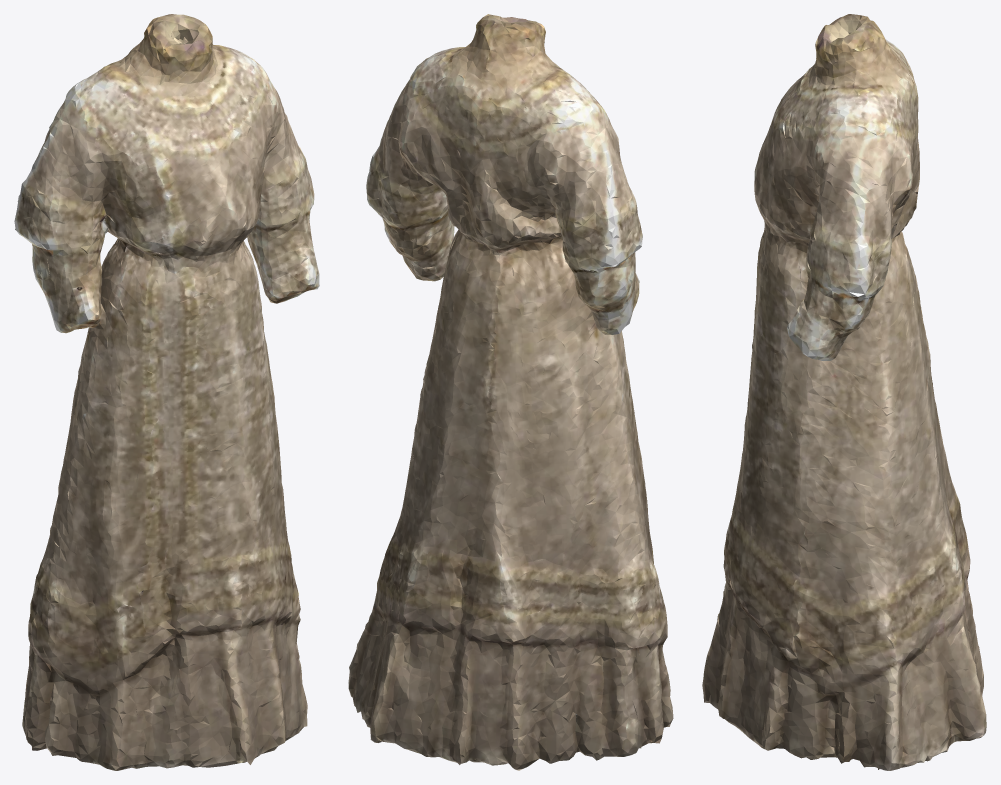
The picture shows the model from 3 angles, left to right: view 1: azimuth 30°, elevation 25°; view 2: azimuth 150°, elevation 25°; view 3: azimuth 270°, elevation 25°; orthographic projection.
Visible parts, largest first — view 1: geometry_0; view 2: geometry_0; view 3: geometry_0.
Boxes of the visible parts, x1=… form: geometry_0: x1=14, y1=14, x2=319, y2=770; geometry_0: x1=348, y1=14, x2=673, y2=770; geometry_0: x1=702, y1=14, x2=986, y2=770.
Size of the model in its own units: 0.4294 by 1 by 0.369.
1 material, 1 textured.
